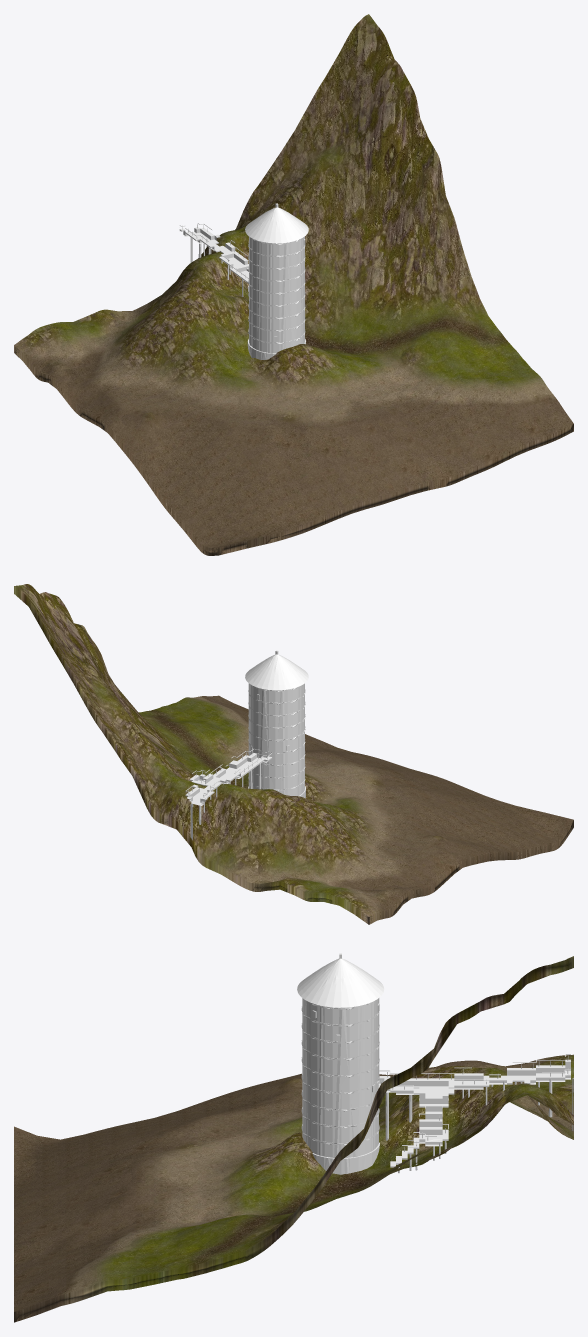
File: chunk_1_4.glb
3 views of the same model, one above another, from view 1: azimuth 30°, elevation 25°; view 2: azimuth 150°, elevation 25°; view 3: azimuth 270°, elevation 25° (orthographic). The views are drawn at different scales.
Parts seen in each view (by area): view 1: Terrain_L0, Terrain_L2, Terrain_L1, Buildings_L0, Buildings_L1; view 2: Terrain_L0, Terrain_L2, Terrain_L1, Buildings_L0, Buildings_L1; view 3: Terrain_L0, Terrain_L2, Buildings_L0, Terrain_L1, Buildings_L1.
Part boxes in pixels (x1,y1,x2,y2): Terrain_L0: (14,14,573,555); Terrain_L2: (14,16,573,555); Terrain_L1: (14,25,569,555); Buildings_L0: (179,203,308,359); Buildings_L1: (179,207,308,359); Terrain_L0: (14,584,573,924); Terrain_L2: (14,585,573,923); Terrain_L1: (14,584,573,923); Buildings_L0: (185,650,306,837); Buildings_L1: (185,654,308,840); Terrain_L0: (14,956,573,1322); Terrain_L2: (14,958,573,1322); Buildings_L0: (297,953,573,1174); Terrain_L1: (14,958,573,1321); Buildings_L1: (297,958,570,1173).
Size of the model in its own units: 96 by 81.26 by 96.
Materials: 4 (1 with a texture image).
